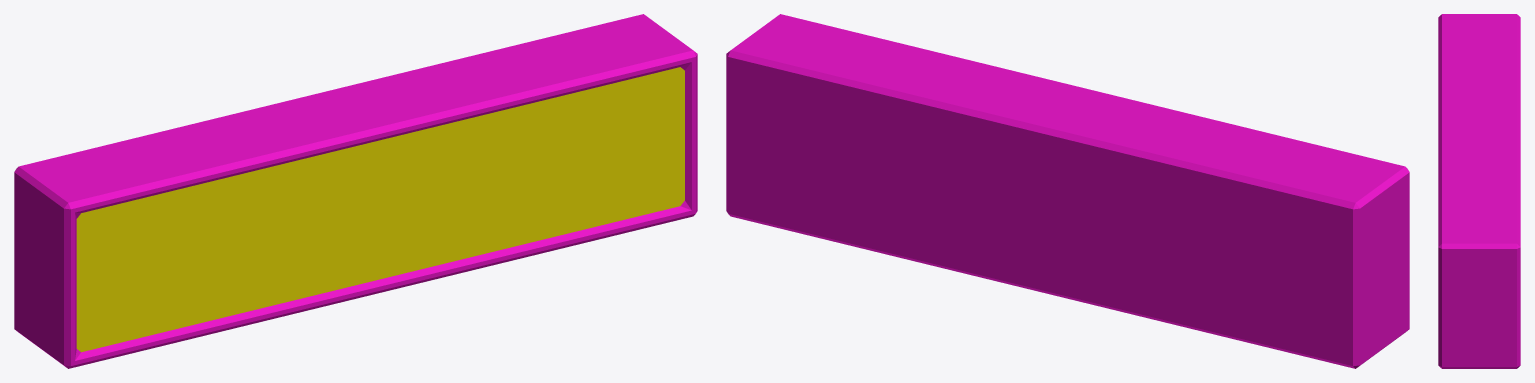
File: sign.fbx
The picture shows the model from 3 angles, left to right: view 1: azimuth 30°, elevation 25°; view 2: azimuth 150°, elevation 25°; view 3: azimuth 270°, elevation 25°; orthographic projection. The views are drawn at different scales.
Parts seen in each view (by area): view 1: Cube.001, Cube; view 2: Cube; view 3: Cube.
Part boxes in pixels (<box>): Cube.001: <box>76,67,684,352</box>; Cube: <box>14,14,697,368</box>; Cube: <box>726,14,1409,368</box>; Cube: <box>1438,14,1520,368</box>.
Bounding box in the file's own units: 285 × 71.37 × 42.67.
